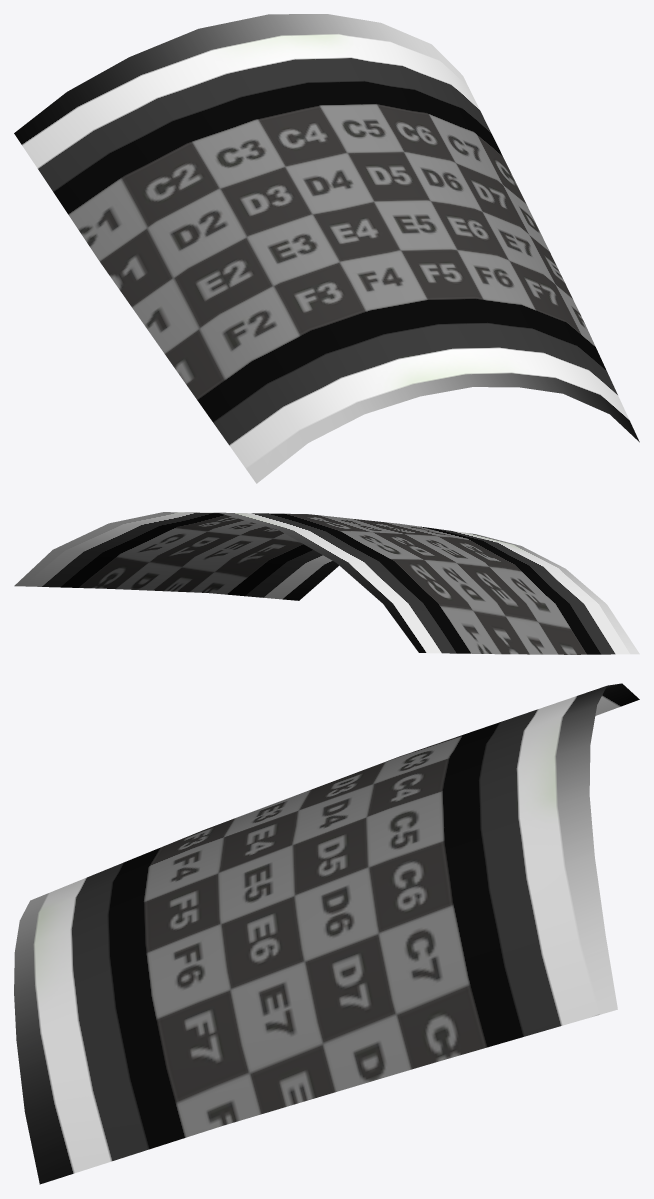
The model's file is status_right.obj.
The picture shows the model from 3 angles, top to bottom: view 1: azimuth 30°, elevation 25°; view 2: azimuth 150°, elevation 25°; view 3: azimuth 270°, elevation 25°; orthographic projection. The views are drawn at different scales.
Parts seen in each view (by area): view 1: r_status; view 2: r_status; view 3: r_status.
Boxes of the visible parts, left/top/right/bottom form: r_status: left=14, top=14, right=639, bottom=483; r_status: left=14, top=512, right=639, bottom=654; r_status: left=14, top=683, right=639, bottom=1184.
Size of the model in its own units: 0.0235 by 0.0151 by 0.024.
Materials: 1 (1 with a texture image).
